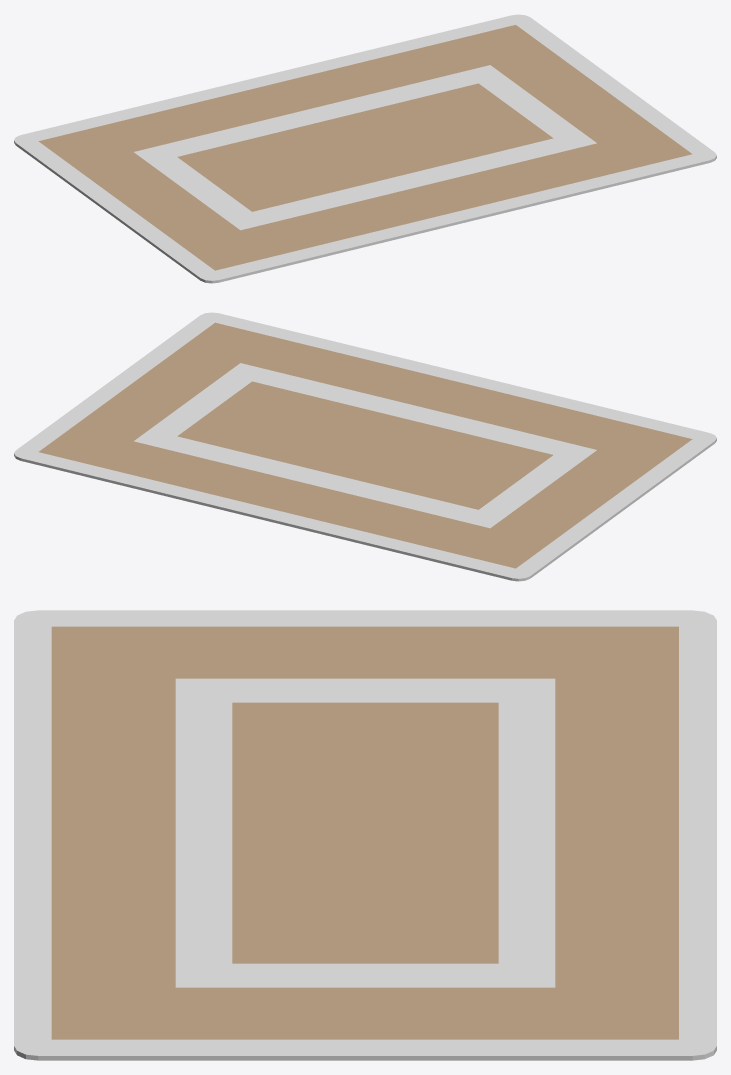
Rendered from Carpet_04_dra.glb.
The picture shows the model from 3 angles, top to bottom: view 1: azimuth 30°, elevation 25°; view 2: azimuth 150°, elevation 25°; view 3: azimuth 270°, elevation 25°; orthographic projection. The views are drawn at different scales.
Visible parts, largest first — view 1: Catpet_04; view 2: Catpet_04; view 3: Catpet_04.
Part boxes in pixels (x1=…): Catpet_04: x1=14, y1=14, x2=716, y2=283; Catpet_04: x1=14, y1=312, x2=716, y2=581; Catpet_04: x1=14, y1=610, x2=716, y2=1060.
Size of the model in its own units: 1.7 by 0.00833 by 1.14.
1 material, 1 textured.
